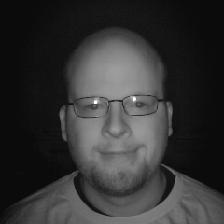happy: (50, 21, 194, 208)
